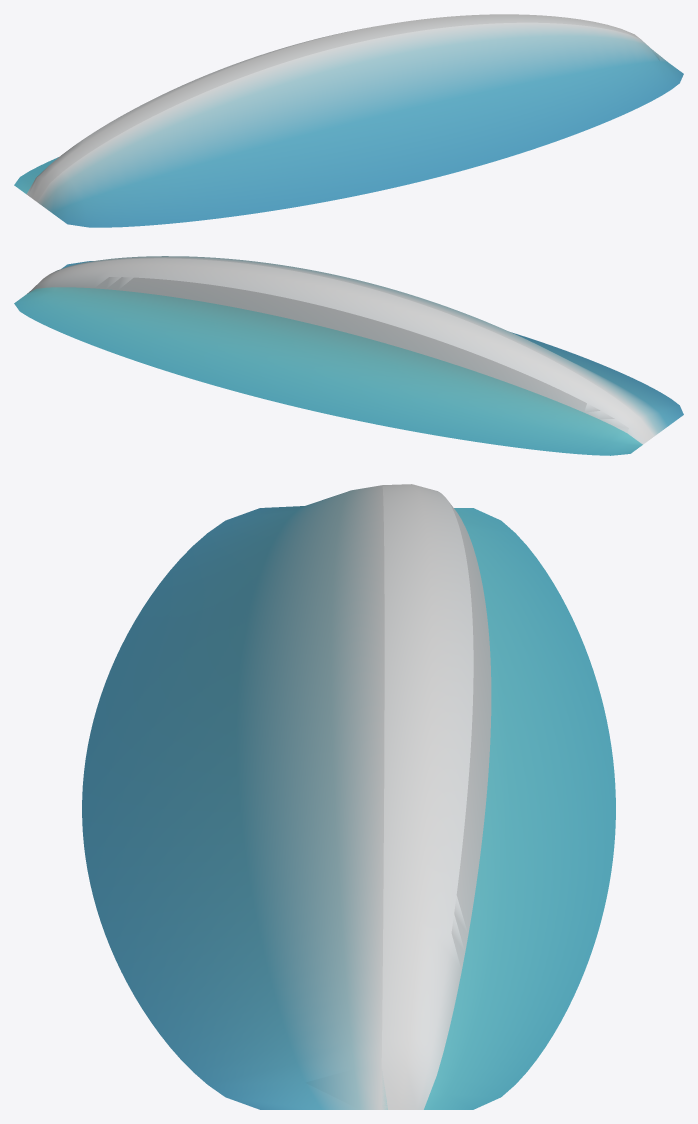
Rendered from wave_crest.glb.
3 views of the same model, one above another, from view 1: azimuth 30°, elevation 25°; view 2: azimuth 150°, elevation 25°; view 3: azimuth 270°, elevation 25° (orthographic). The views are drawn at different scales.
Visible parts, largest first — view 1: wave; view 2: wave; view 3: wave.
Boxes of the visible parts, x1,y1,x2,y2 form: wave: [14, 14, 683, 227]; wave: [14, 256, 683, 455]; wave: [82, 484, 615, 1109].
Bounding box in the file's own units: 24 × 3.05 × 9.
